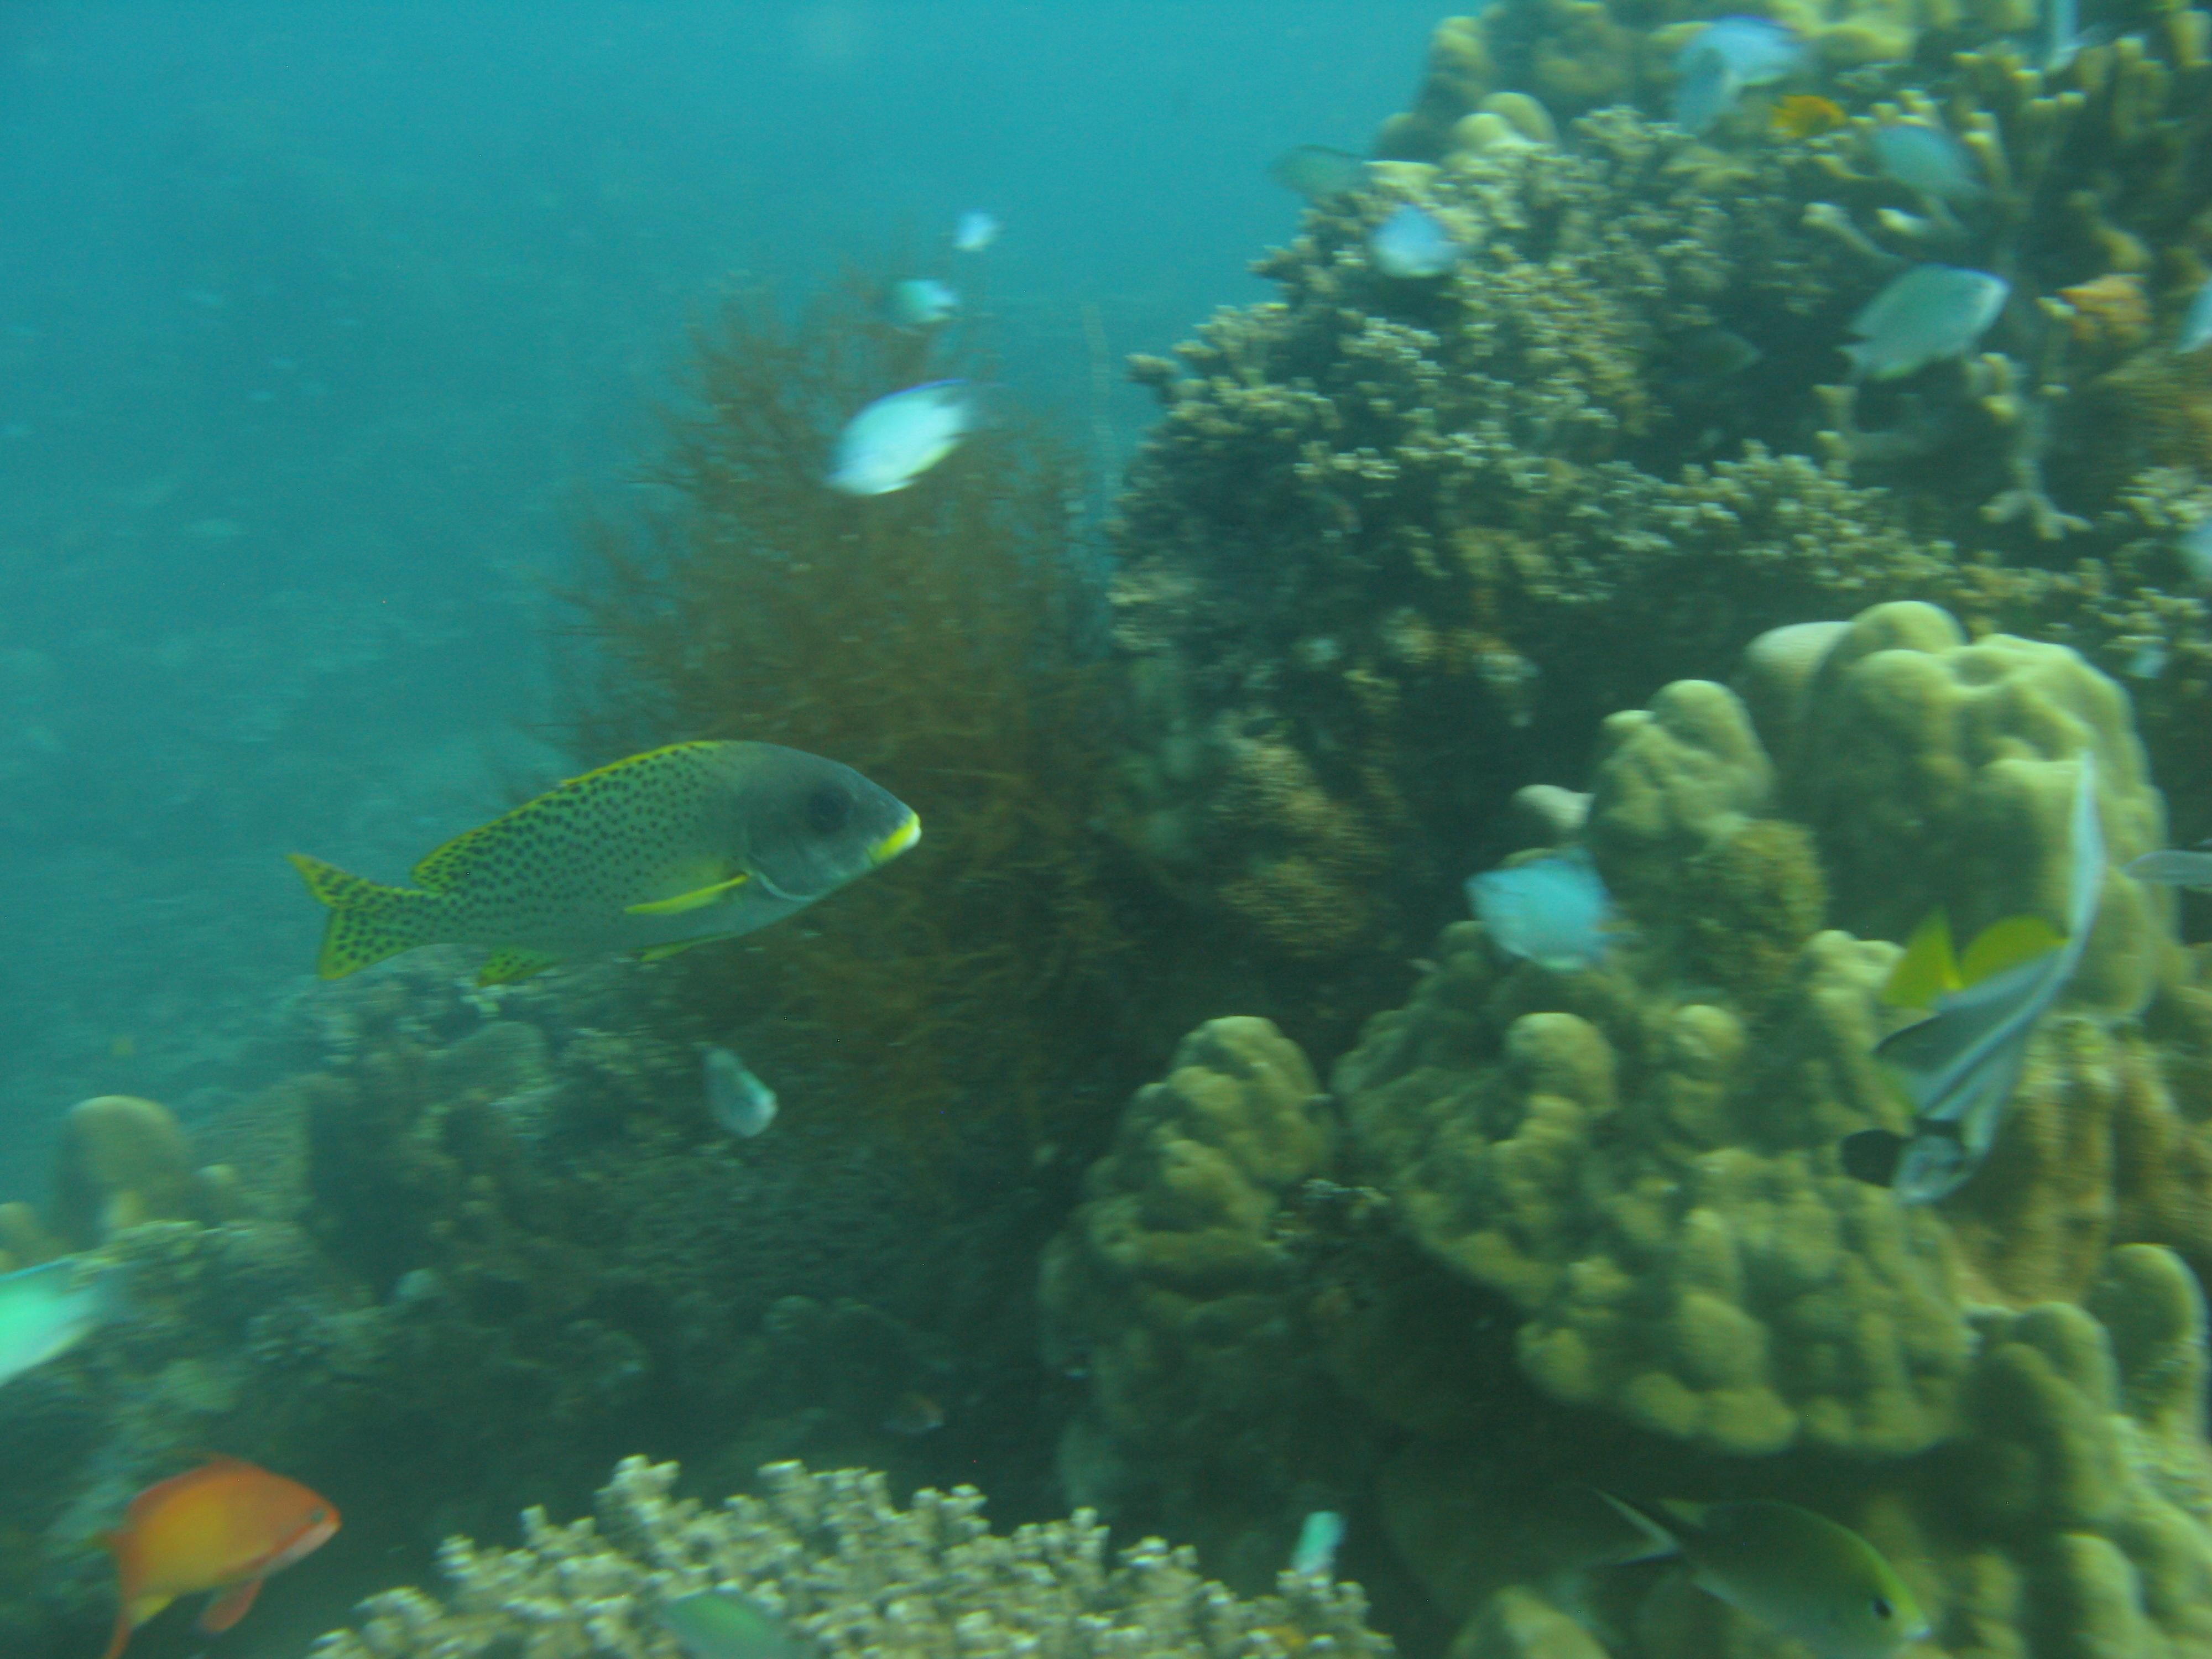Fish: (291, 725, 949, 1018)
